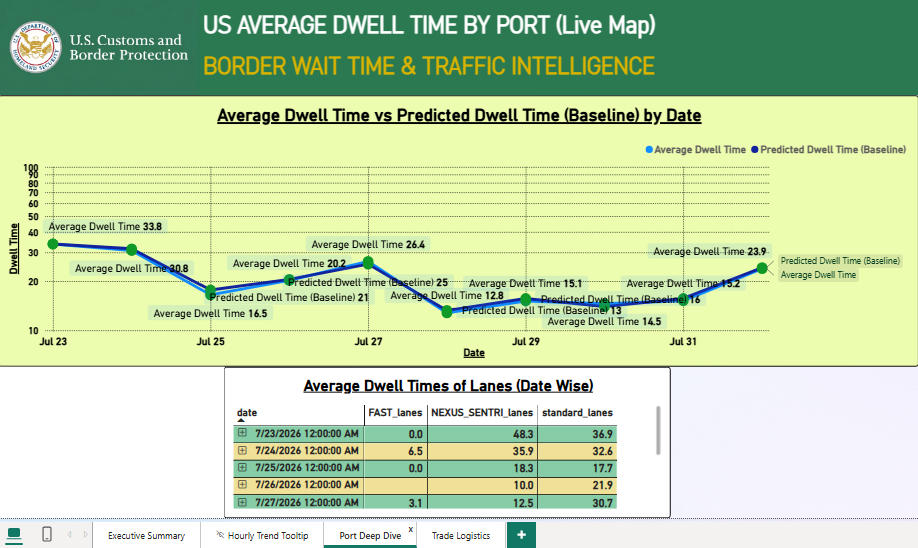

Layout of this report page (visuals, bound fields, positions):
{"tool":"powerbi","page":{"name":"Port Deep Dive","canvas":[1280,720],"ordinal":2},"visuals":[{"type":"actionButton","box":[0,0,100,40],"z":0},{"type":"lineChart","title":"Average Dwell Time vs Predicted Dwell Time (Baseline) by Date","fields":{"Category":["dim_date.date"],"Y":["fact_waittimes_gold_new.Average Dwell Time","fact_waittime_predictions.Predicted Dwell Time (Baseline)"]},"box":[0,132.4,1280.2,377.4],"z":1000},{"type":"pivotTable","title":"Average Dwell Times of Lanes (Date Wise)","fields":{"Columns":["dim_lane_new.lane_type"],"Rows":["dim_date.date","dim_time.hour_of_day"],"Values":["fact_waittimes_gold_new.Average Dwell Time"]},"box":[313.8,509.8,621.3,210.6],"z":2000},{"type":"shape","box":[0,0,1280.2,132.4],"z":3000},{"type":"textbox","box":[0,510,314,210],"z":3001},{"type":"textbox","box":[280.4,8.3,999.7,124.1],"z":3002},{"type":"image","box":[0,0,280.4,131.4],"z":3003}]}

Visuals, with their boxes on the page's 1280x720 design canvas (x1, y1, x2, y2). These are canvas units, not pixel positions in the 918x548 screenshot, which may show the page scaled, cropped or inside an application window:
actionButton: <region>0, 0, 100, 40</region>
"Average Dwell Time vs Predicted Dwell Time (Baseline) by Date" lineChart: <region>0, 132, 1280, 510</region>
"Average Dwell Times of Lanes (Date Wise)" pivotTable: <region>314, 510, 935, 720</region>
shape: <region>0, 0, 1280, 132</region>
textbox: <region>0, 510, 314, 720</region>
textbox: <region>280, 8, 1280, 132</region>
image: <region>0, 0, 280, 131</region>
